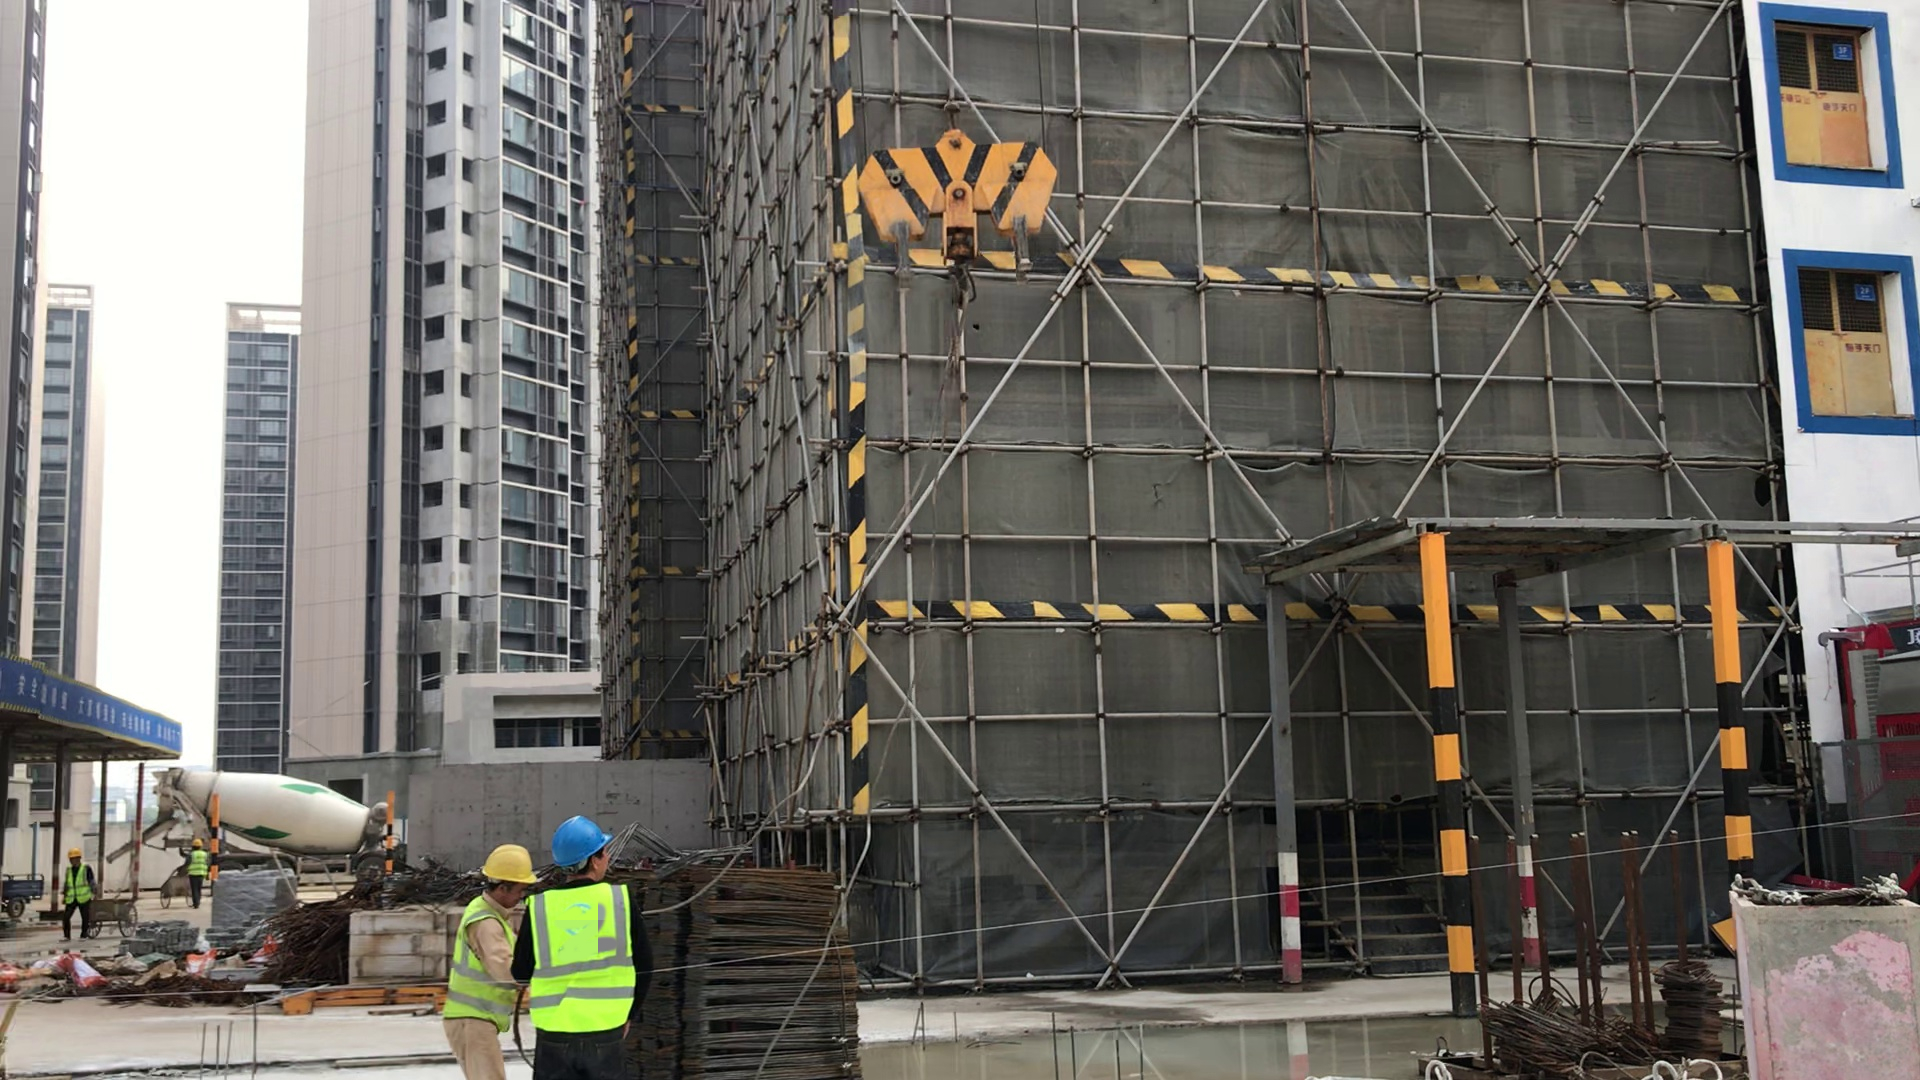handcart: (81, 901, 144, 942), (158, 869, 199, 910)
helmet: (473, 836, 541, 888), (548, 817, 612, 866), (64, 848, 83, 858), (191, 838, 203, 848)
hook: (826, 100, 1068, 287)
person: (518, 816, 662, 1080), (428, 839, 554, 1080), (56, 848, 110, 944), (178, 836, 213, 913)
slogan: (2, 659, 178, 753)
vest: (531, 892, 632, 1030), (447, 898, 522, 1035), (63, 867, 92, 908), (189, 855, 204, 880)
